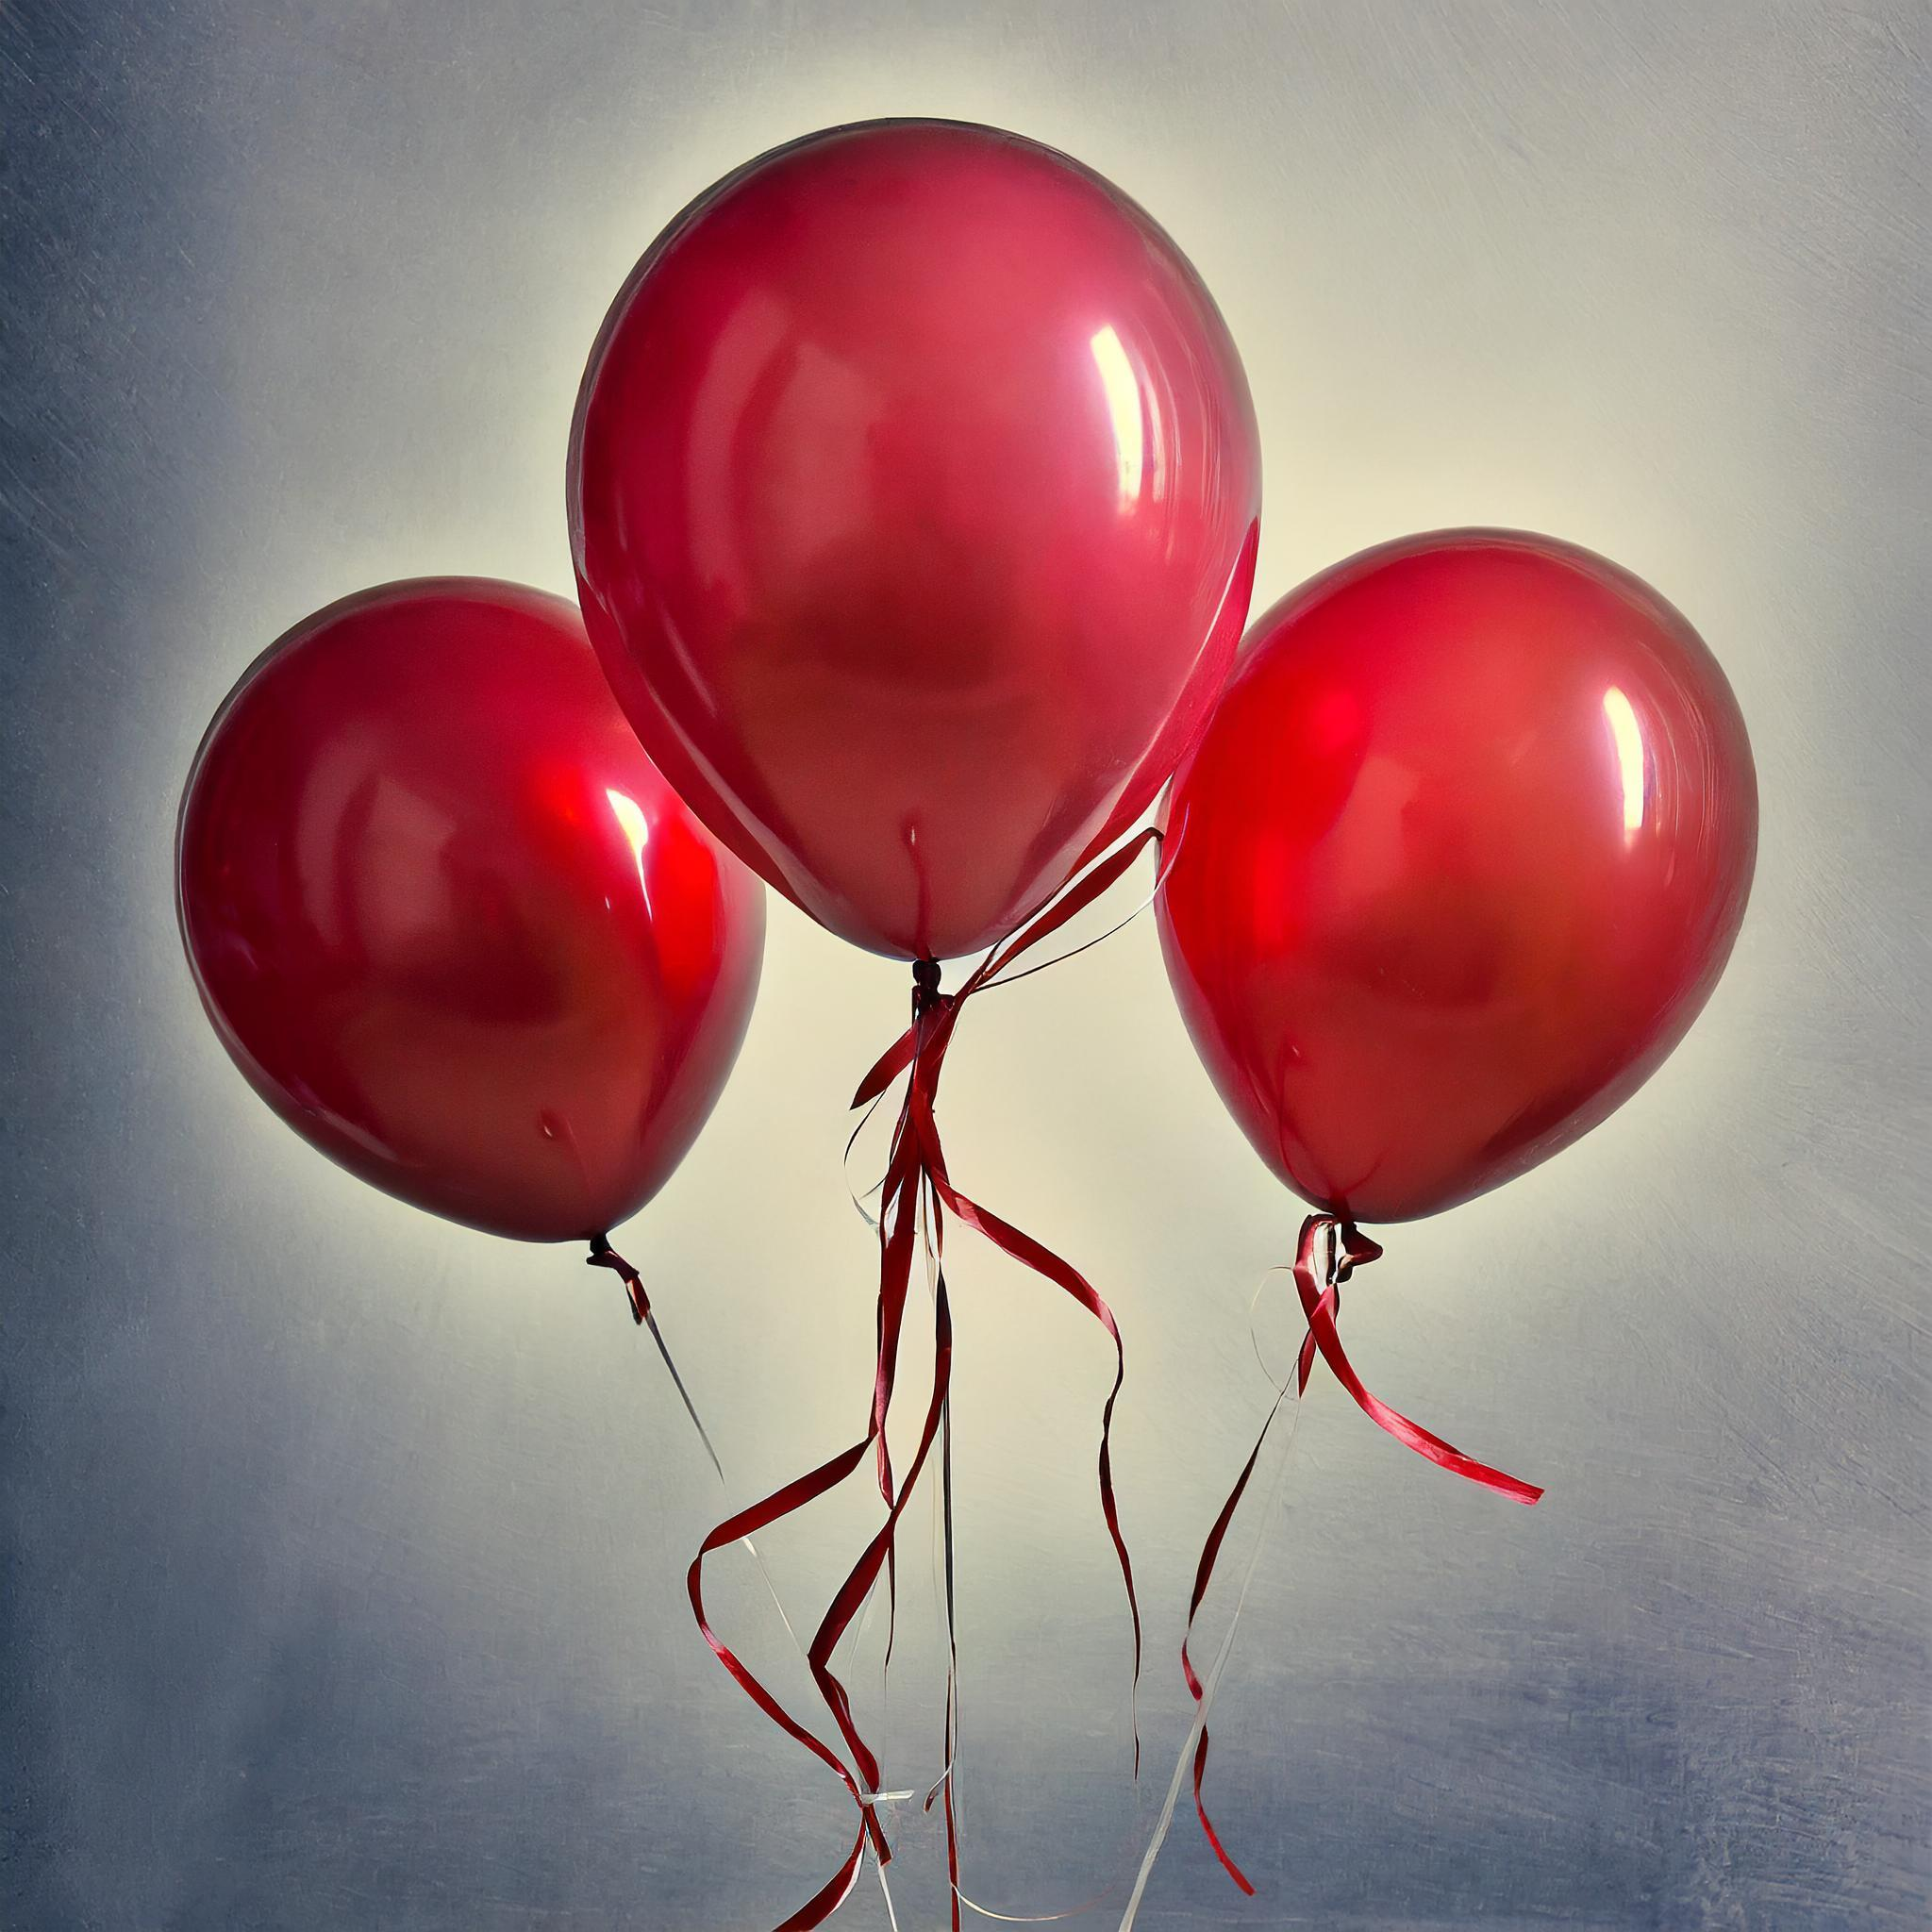red: (548, 104, 1270, 1047), (1132, 511, 1780, 1299), (157, 543, 780, 1311)
